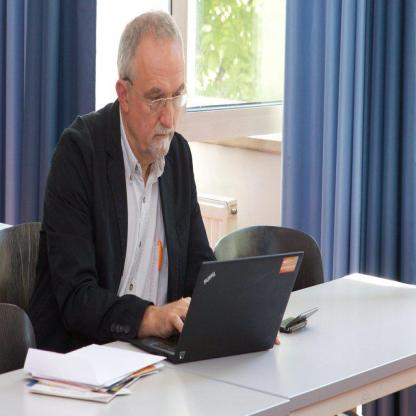board: (112, 246, 306, 373)
